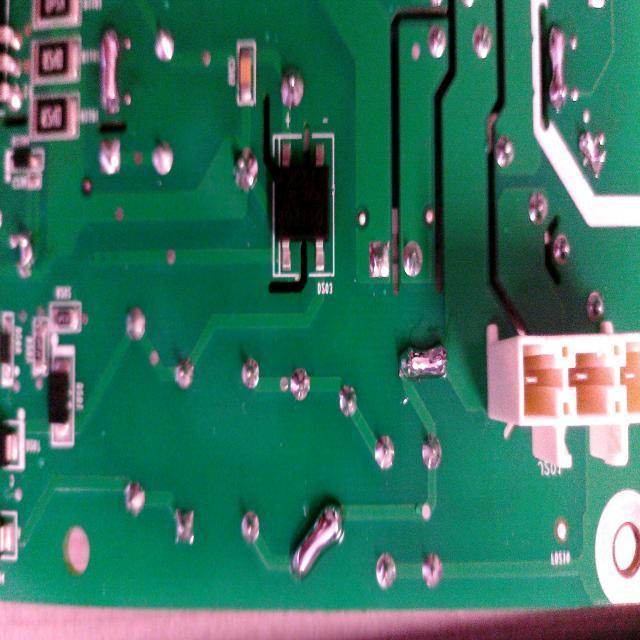Soldering shorted: (287, 492, 347, 588), (393, 333, 450, 388), (96, 16, 122, 118), (572, 122, 608, 182), (546, 22, 568, 116)
